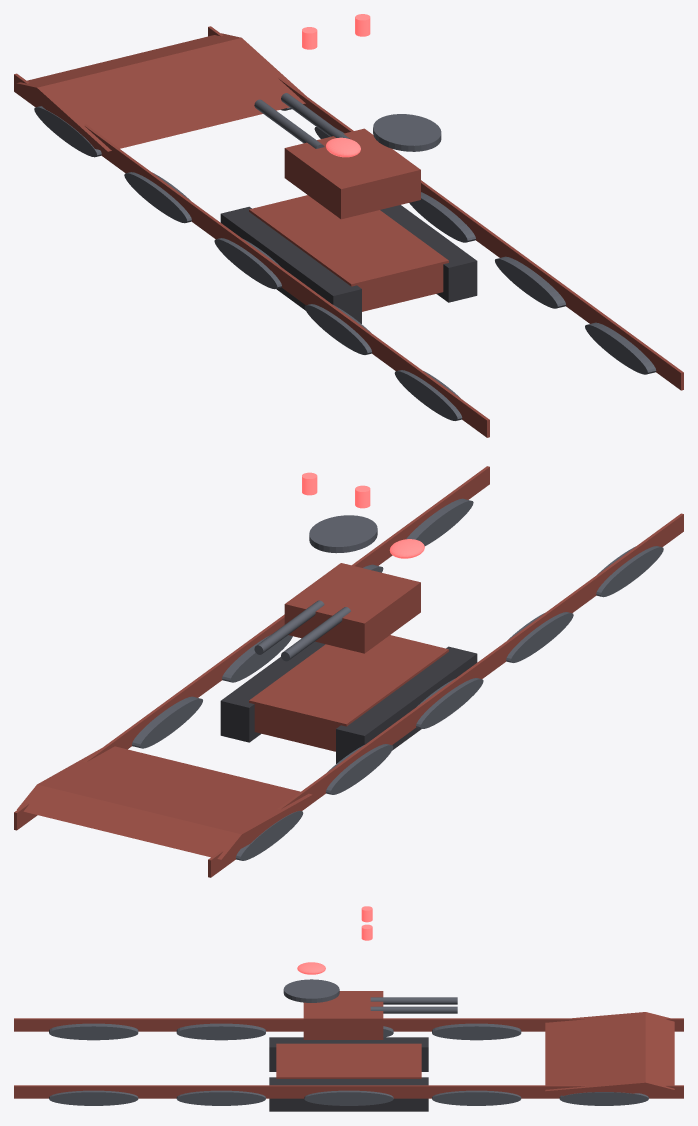
Rendered from SU_GranitMBT_LOD1.glb.
3 renders of one model, top to bottom at view 1: azimuth 30°, elevation 25°; view 2: azimuth 150°, elevation 25°; view 3: azimuth 270°, elevation 25°, orthographic. The views are drawn at different scales.
Parts seen in each view (by area): view 1: Cube.001, Cube, Cube.006, Cube.003, Cube.005, Cube.002, Cube.004, Cylinder.010, Cylinder.005, Cylinder.006, Cylinder.003, Cylinder.007 (+6 smaller); view 2: Cube.001, Cube, Cube.006, Cube.003, Cube.005, Cube.002, Cube.004, Cylinder.010, Cylinder.008, Cylinder, Cylinder.002, Cylinder.001 (+6 smaller); view 3: Cube.001, Cube.005, Cube, Cube.003, Cube.006, Cube.004, Cube.002, Cylinder.001, Cylinder.003, Cylinder, Cylinder.005, Cylinder.007 (+6 smaller).
Part boxes in pixels (left/top/right/bottom): Cube.001: left=16, top=33, right=305, bottom=151; Cube: left=249, top=195, right=448, bottom=311; Cube.006: left=284, top=128, right=420, bottom=219; Cube.003: left=14, top=73, right=489, bottom=437; Cube.005: left=208, top=26, right=683, bottom=390; Cube.002: left=220, top=206, right=361, bottom=323; Cube.004: left=380, top=205, right=477, bottom=302; Cylinder.010: left=373, top=114, right=441, bottom=151; Cylinder.005: left=585, top=322, right=656, bottom=374; Cylinder.006: left=495, top=256, right=565, bottom=308; Cylinder.003: left=124, top=172, right=191, bottom=223; Cylinder.007: left=409, top=192, right=475, bottom=242; Cube.001: left=17, top=746, right=312, bottom=859; Cube: left=249, top=635, right=448, bottom=751; Cube.006: left=284, top=563, right=420, bottom=653; Cube.003: left=208, top=513, right=683, bottom=877; Cube.005: left=14, top=466, right=489, bottom=830; Cube.002: left=336, top=646, right=477, bottom=763; Cube.004: left=220, top=641, right=325, bottom=742; Cylinder.010: left=309, top=515, right=377, bottom=553; Cylinder.008: left=132, top=696, right=202, bottom=748; Cylinder: left=596, top=546, right=663, bottom=597; Cylinder.002: left=416, top=678, right=483, bottom=728; Cylinder.001: left=506, top=612, right=573, bottom=662; Cube.001: left=545, top=1012, right=674, bottom=1095; Cube.005: left=14, top=1085, right=683, bottom=1098; Cube: left=276, top=1043, right=421, bottom=1078; Cube.003: left=14, top=1018, right=683, bottom=1031; Cube.006: left=303, top=991, right=383, bottom=1039; Cube.004: left=269, top=1077, right=428, bottom=1111; Cube.002: left=269, top=1037, right=428, bottom=1071; Cylinder.001: left=176, top=1023, right=265, bottom=1040; Cylinder.003: left=432, top=1023, right=521, bottom=1040; Cylinder: left=49, top=1023, right=138, bottom=1040; Cylinder.005: left=49, top=1090, right=138, bottom=1105; Cylinder.007: left=304, top=1090, right=393, bottom=1105.
Size of what is drawn, in the model's own units: 4.65 by 5.15 by 18.48.
